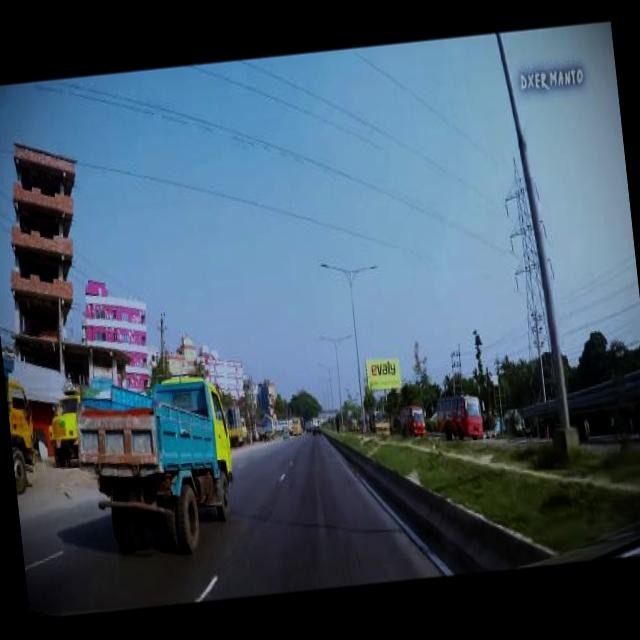bus: (432, 391, 482, 436), (398, 402, 424, 434), (288, 416, 300, 432)
motorcycle: (280, 424, 288, 437)
truck: (69, 364, 240, 562), (253, 414, 274, 440), (308, 414, 320, 432)
